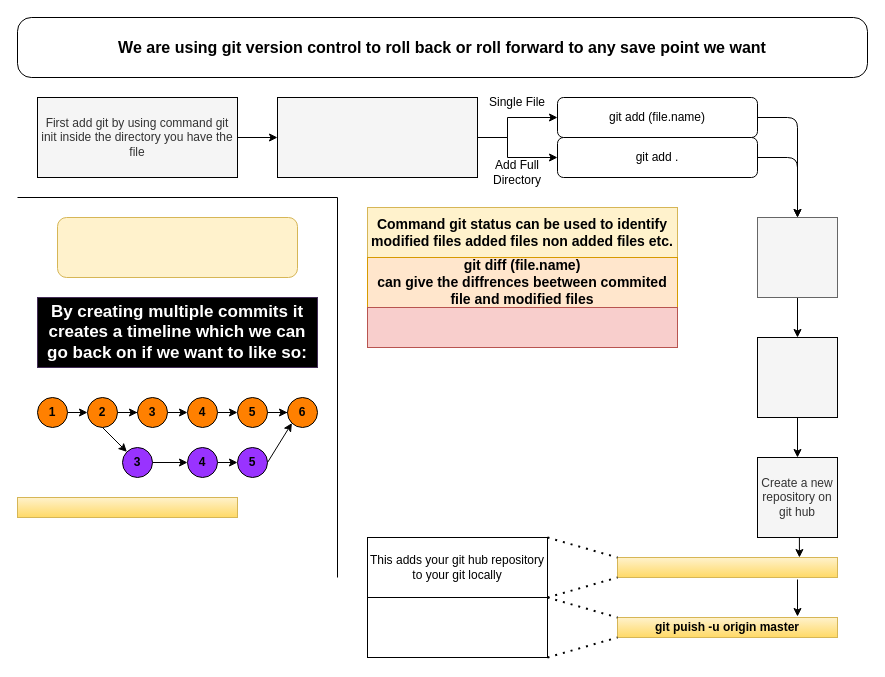
The diagram is 885 pixels wide and 677 high, and some of its shapes have lost their labels. The shapes that lost their labels are listed below. From the top down, each one's box as (x1, y1, x2, y2) in pixels, then its label:
(276, 96, 478, 178): Then add the file you want to add by using:
(56, 216, 298, 278): GIT BRANCHING
(756, 216, 838, 298): git commit -m (comment) To save file to Git
(366, 306, 678, 348): git checkout (file.name) rolls back to already commited versions
(756, 336, 838, 418): To upload the git repository online to access it worldwide
(16, 496, 238, 518): git branch
(616, 556, 838, 578): git remote add origin (repository url)
(366, 596, 548, 658): This pushes your local repository to online repository
